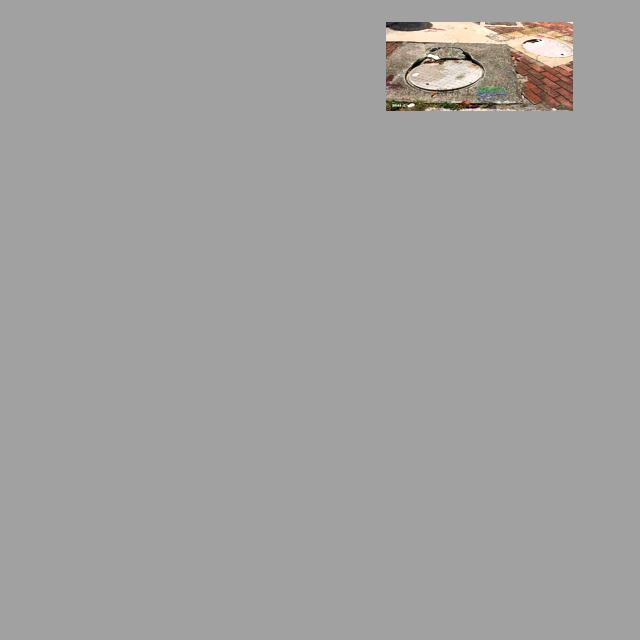circle: (387, 39, 526, 104)
